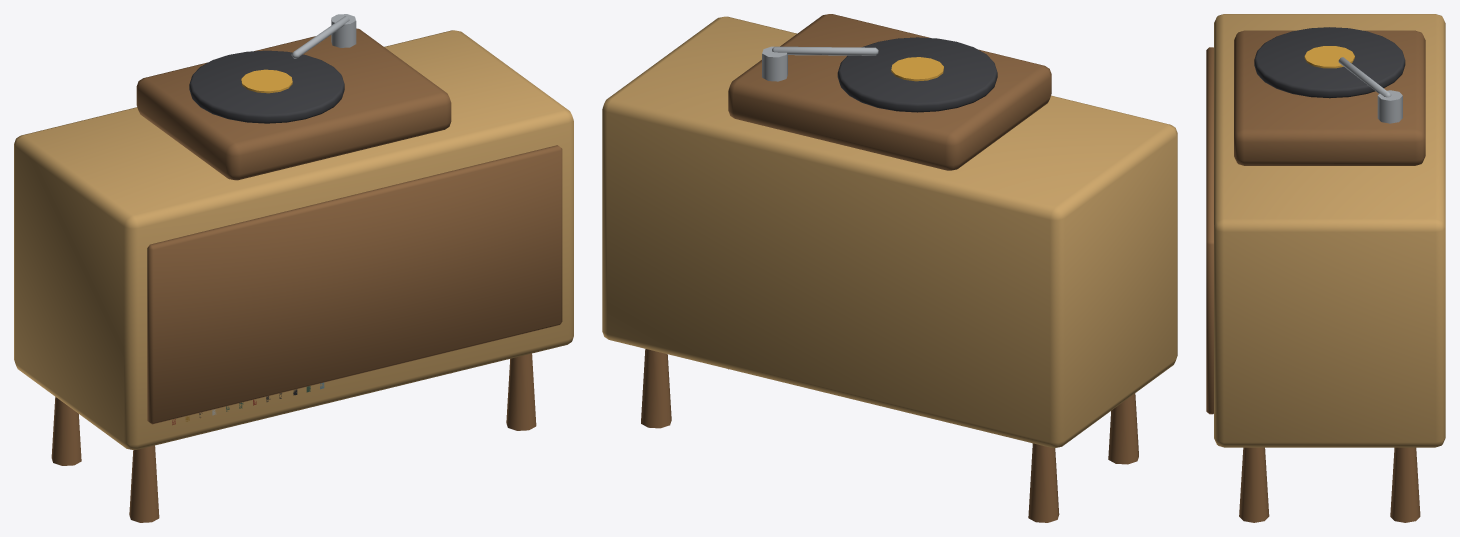
File: record_player.glb
3 renders of one model, left to right at view 1: azimuth 30°, elevation 25°; view 2: azimuth 150°, elevation 25°; view 3: azimuth 270°, elevation 25°, orthographic. The views are drawn at different scales.
Visible parts, largest first — view 1: record_player; view 2: record_player; view 3: record_player.
Part boxes in pixels (x1,y1,x2,y2): record_player: (14,14,573,522); record_player: (602,14,1177,522); record_player: (1206,14,1445,522).
Bounding box in the file's own units: 1 × 0.8175 × 0.475.
Materials: 1 (1 with a texture image).
